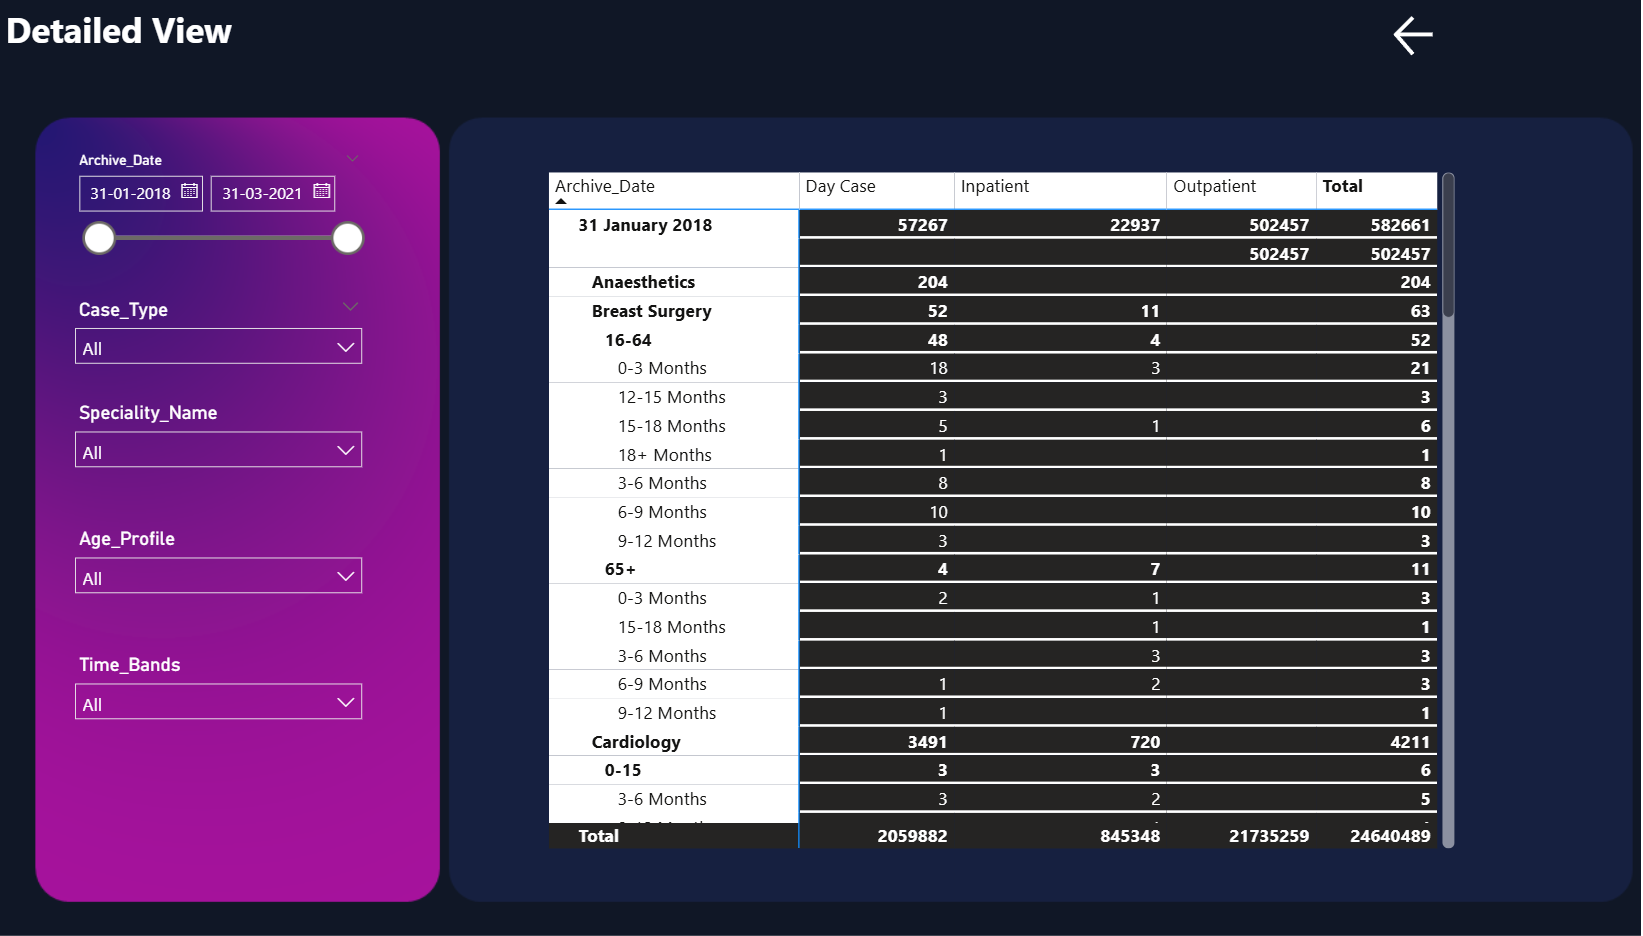

What the dashboard file says about the page in this screenshot:
{"tool":"powerbi","page":{"name":"Detail","canvas":[1280,720],"ordinal":1},"visuals":[{"type":"slicer","fields":{"Values":["All_Data.Speciality_Name"]},"box":[48,304,240,80],"z":0},{"type":"slicer","fields":{"Values":["All_Data.Archive_Date"]},"box":[48,112,240,96],"z":1000},{"type":"slicer","fields":{"Values":["All_Data.Case_Type"]},"box":[48,224,240,80],"z":2000},{"type":"textbox","box":[0,0,240,48],"z":3000},{"type":"slicer","fields":{"Values":["All_Data.Age_Profile"]},"box":[48,400,240,80],"z":4000},{"type":"slicer","fields":{"Values":["All_Data.Time_Bands"]},"box":[48,496,240,96],"z":5000},{"type":"pivotTable","fields":{"Rows":["All_Data.Archive_Date","All_Data.Specialty_Name","All_Data.Age_Profile","All_Data.Time_Bands"],"Columns":["All_Data.Case_Type"],"Values":["Sum(All_Data.Total)"]},"box":[416,128,704,528],"z":6000},{"type":"actionButton","box":[1064.4,8,55.2,40.2],"z":7000}]}

Visuals, with their boxes in screenshot pixels (x1, y1, x2, y2), scaled from the page's 1280x720 canvas onto the 1643x936 screenshot:
slicer - All_Data.Speciality_Name: bbox=(62, 395, 370, 499)
slicer - All_Data.Archive_Date: bbox=(62, 146, 370, 270)
slicer - All_Data.Case_Type: bbox=(62, 291, 370, 395)
textbox: bbox=(0, 0, 308, 62)
slicer - All_Data.Age_Profile: bbox=(62, 520, 370, 624)
slicer - All_Data.Time_Bands: bbox=(62, 645, 370, 770)
pivotTable - All_Data.Archive_Date x All_Data.Specialty_Name: bbox=(534, 166, 1438, 853)
actionButton: bbox=(1366, 10, 1437, 63)
